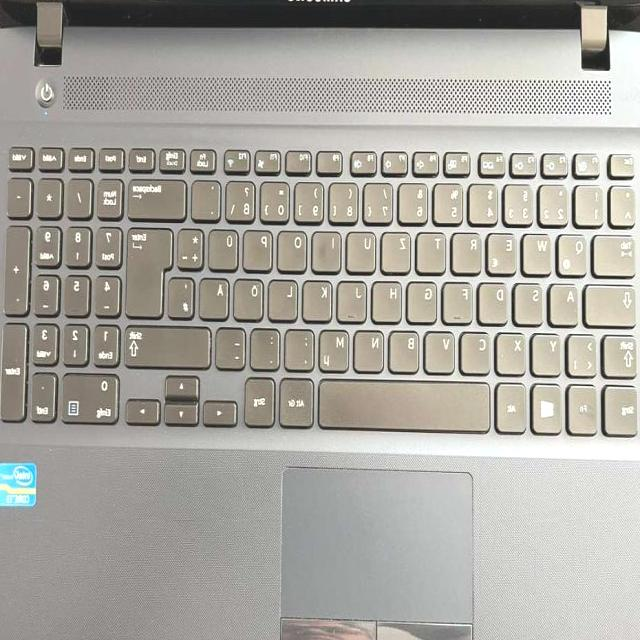0: (263, 177, 293, 220)
1: (577, 181, 607, 224)
2: (541, 180, 572, 223)
3: (506, 180, 537, 222)
4: (471, 179, 502, 222)
5: (436, 179, 468, 221)
6: (401, 178, 433, 221)
7: (366, 178, 397, 221)
8: (331, 178, 362, 221)
9: (297, 177, 328, 220)
a: (552, 279, 582, 323)
accent: (194, 176, 224, 218)
ae: (202, 274, 233, 317)
alt-left: (498, 379, 530, 431)
altgr-right: (281, 374, 317, 425)
b: (391, 326, 423, 370)
c: (463, 328, 494, 371)
caret: (613, 181, 639, 223)
comma: (287, 325, 319, 368)
d: (481, 278, 511, 322)
del: (129, 174, 189, 217)
e: (490, 228, 521, 272)
enter: (127, 222, 176, 316)
f: (445, 278, 476, 321)
g: (410, 277, 441, 321)
h: (375, 277, 406, 320)
hash: (171, 272, 198, 316)
i: (314, 226, 345, 269)
j: (340, 276, 370, 319)
k: (305, 276, 335, 319)
keyboard: (0, 117, 640, 448)
l: (271, 275, 301, 318)
less: (570, 329, 601, 374)
m: (321, 326, 353, 370)
minus: (218, 323, 250, 367)
n: (357, 326, 388, 370)
o: (280, 226, 310, 269)
oe: (236, 274, 267, 318)
p: (246, 226, 276, 268)
plus: (180, 224, 208, 266)
point: (253, 324, 285, 367)
q: (560, 230, 592, 273)
r: (454, 228, 486, 271)
s: (517, 279, 547, 322)
shift-left: (606, 331, 640, 375)
shift-lock: (587, 280, 639, 324)
shift-right: (126, 321, 215, 365)
space: (321, 375, 493, 429)
ss: (229, 176, 259, 219)
strg-left: (606, 381, 640, 433)
strg-right: (246, 373, 278, 425)
t: (419, 228, 449, 271)
tab: (596, 230, 640, 274)
u: (349, 227, 379, 270)
ue: (211, 225, 242, 268)
v: (427, 327, 459, 371)
w: (525, 229, 555, 272)
x: (498, 328, 529, 373)
y: (534, 329, 564, 374)
z: (384, 227, 414, 270)
